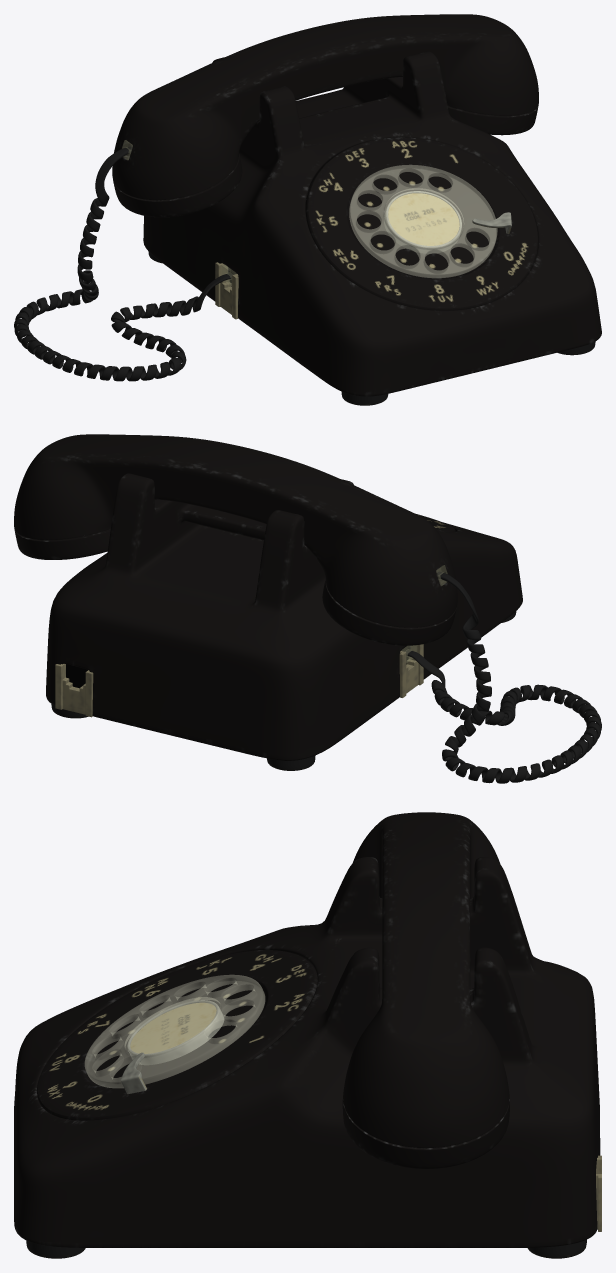
3 renders of one model, top to bottom at view 1: azimuth 30°, elevation 25°; view 2: azimuth 150°, elevation 25°; view 3: azimuth 270°, elevation 25°, orthographic. The views are drawn at different scales.
Visible parts, largest first — view 1: Main_Body, Handset, Dial_Number_Plate, Rotary_Dial_Finger_Wheel, Coiled_Cord, Rotary_Dial_Card, Rotary_Dial_Center_Cap, Handset_Jack; view 2: Main_Body, Handset, Coiled_Cord, Line_Jack, Handset_Jack, Base_Feet_04; view 3: Main_Body, Handset, Dial_Number_Plate, Rotary_Dial_Finger_Wheel, Rotary_Dial_Card, Rotary_Dial_Center_Cap, Base_Feet_03, Rotary_Dial_Finger_Stop, Base_Feet_01.
Part boxes in pixels (<box>): Main_Body: <box>143,51,601,396</box>; Handset: <box>112,14,538,217</box>; Dial_Number_Plate: <box>305,137,538,310</box>; Rotary_Dial_Finger_Wheel: <box>349,165,497,277</box>; Coiled_Cord: <box>14,146,232,381</box>; Rotary_Dial_Card: <box>388,193,459,245</box>; Rotary_Dial_Center_Cap: <box>384,191,461,253</box>; Handset_Jack: <box>215,262,238,319</box>; Main_Body: <box>46,473,522,760</box>; Handset: <box>14,434,457,645</box>; Coiled_Cord: <box>405,571,601,783</box>; Line_Jack: <box>55,664,93,717</box>; Handset_Jack: <box>399,644,423,697</box>; Base_Feet_04: <box>267,755,315,770</box>; Main_Body: <box>14,857,600,1247</box>; Handset: <box>342,812,509,1168</box>; Dial_Number_Plate: <box>37,950,317,1120</box>; Rotary_Dial_Finger_Wheel: <box>85,975,264,1087</box>; Rotary_Dial_Card: <box>130,1002,216,1053</box>; Rotary_Dial_Center_Cap: <box>127,1000,224,1065</box>; Base_Feet_03: <box>527,1239,586,1258</box>; Rotary_Dial_Finger_Stop: <box>120,1052,146,1094</box>; Base_Feet_01: <box>26,1240,85,1258</box>.
Size of the model in its own units: 0.2798 by 0.1188 by 0.2125.
Materials: 2 (2 with a texture image).
